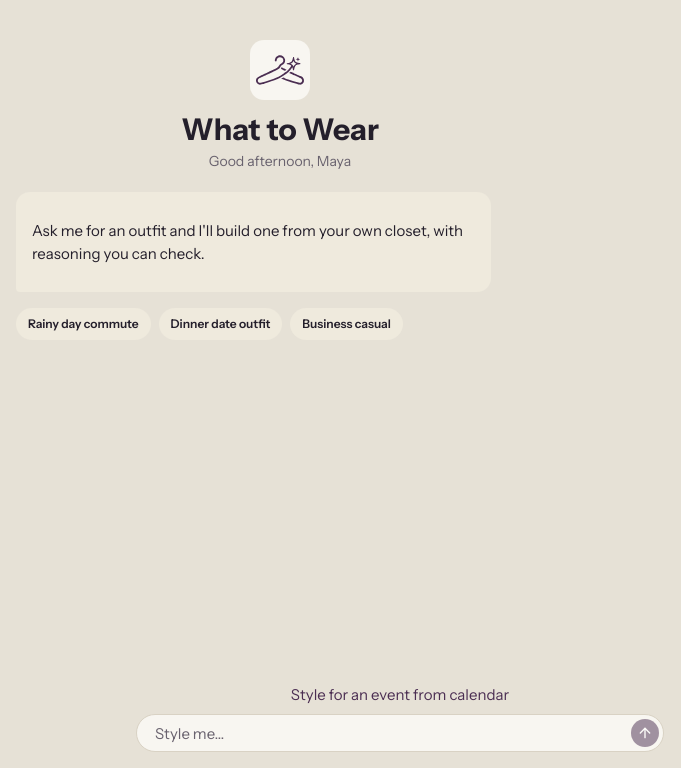
Test: RecommendChat › zero-outfit reply renders the wrap-up, reply_text, and an Add-item link, with no thumbnails
The image size is (681, 768).
Type "black tie gala" into the field named "Message".
click(388, 733); type("black tie gala")  # box x1=153 y1=722 x2=623 y2=744
Then press Enter
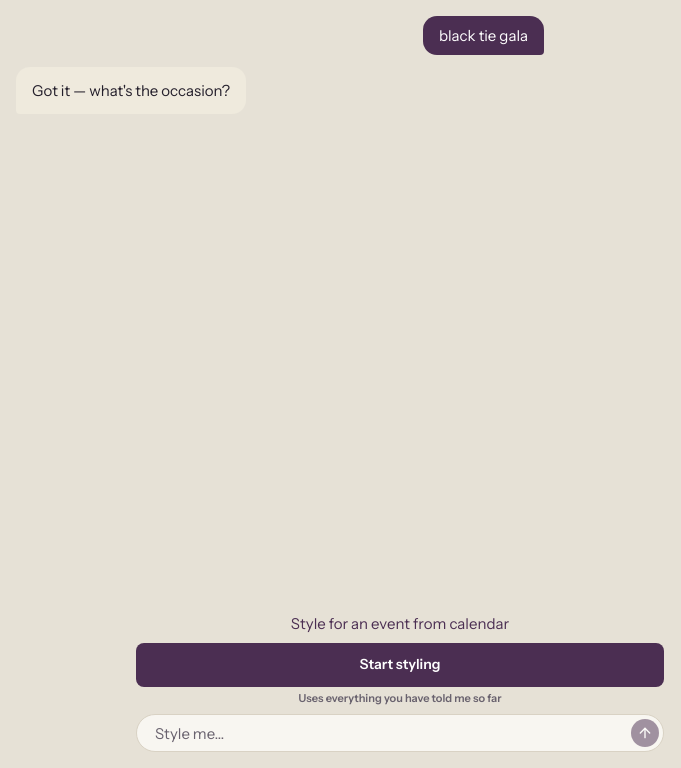
Expected: the text "Got it — what's the occasion?" is shown, x1=32 y1=79 x2=230 y2=102
Click the button "Start styling".
click(400, 665)  # box x1=136 y1=643 x2=664 y2=687
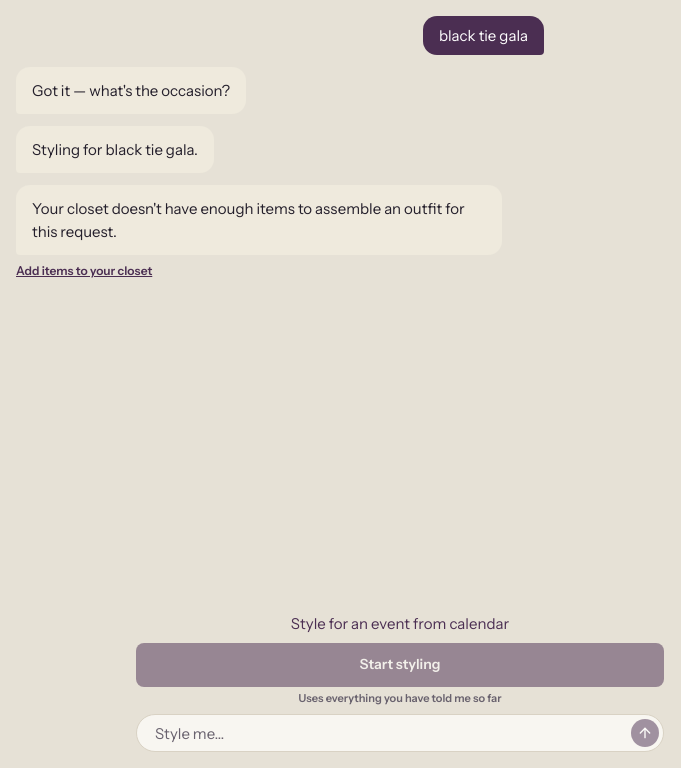
Expected: the text "Styling for black tie gala." is shown, x1=32 y1=138 x2=198 y2=161
Expected: the text "Your closet doesn't have enough items to assemble an outfit for this request." is shown, x1=32 y1=197 x2=486 y2=243
Expected: the link "Add items to your closet" is shown, x1=16 y1=263 x2=152 y2=280
